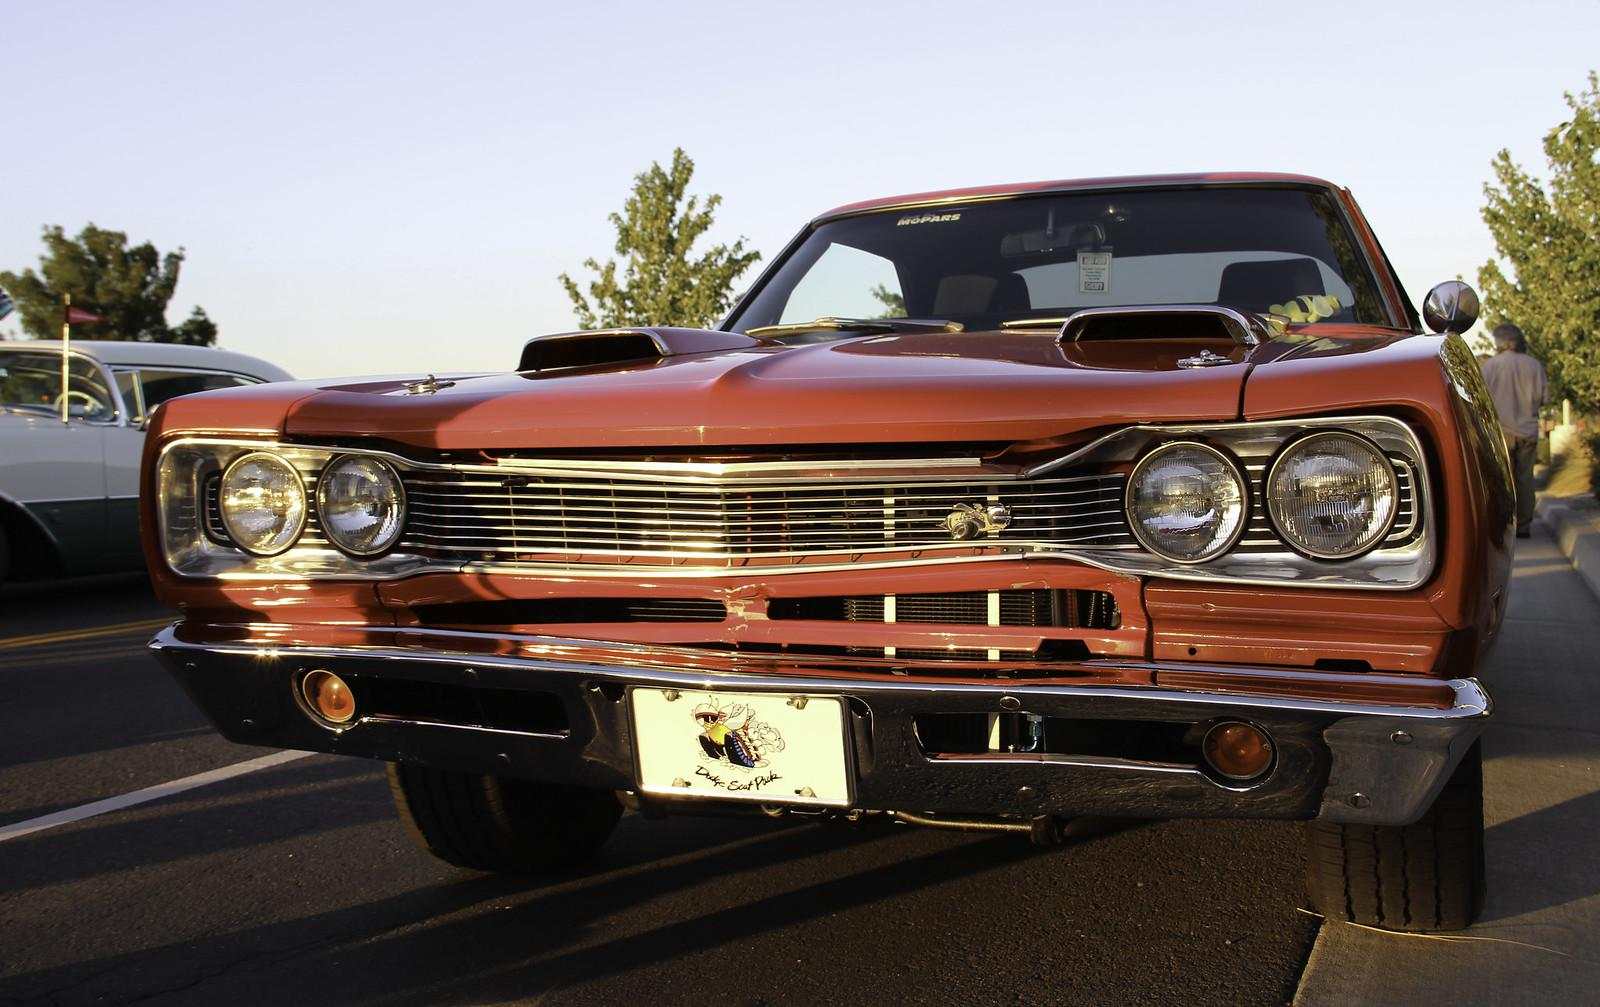front-bumper-dent: (651, 593, 1472, 853)
